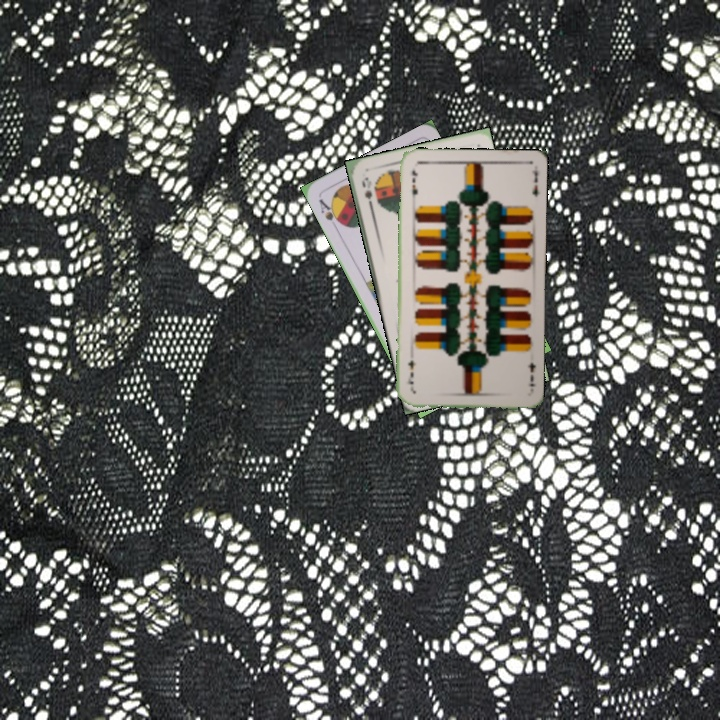E7: (408, 166, 420, 204), (524, 359, 538, 389)
SA: (314, 195, 345, 231)
SO: (357, 173, 376, 212)
